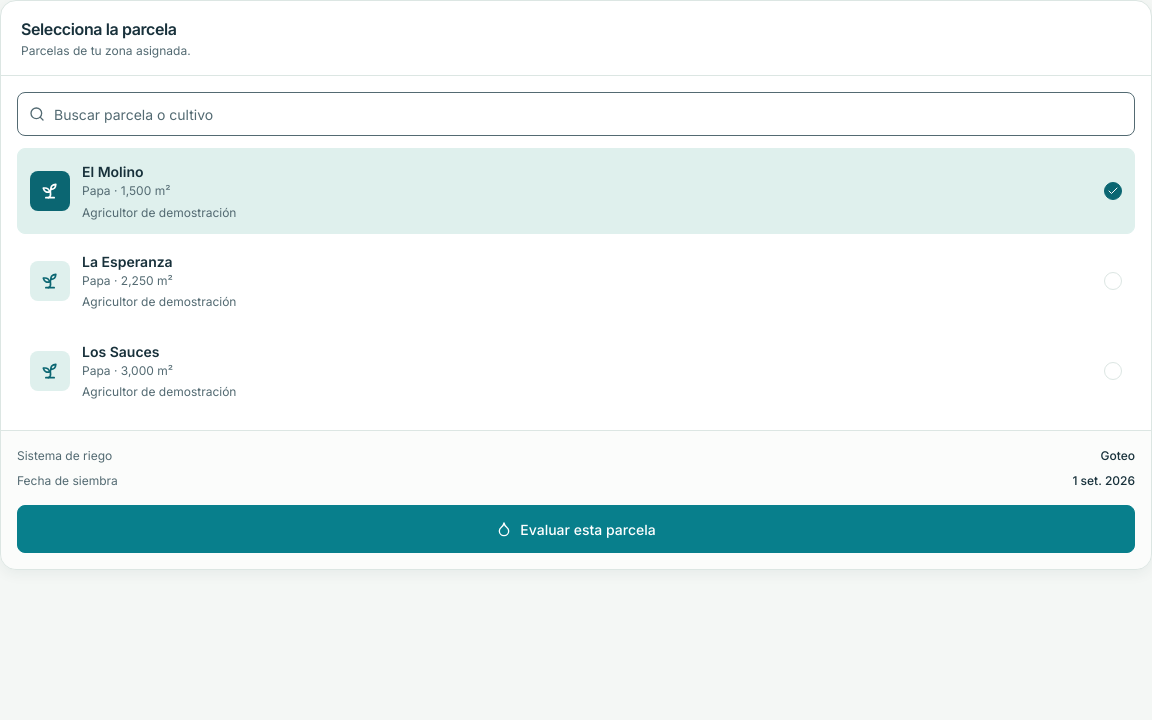
PlotSelector › filtra por nombre o cultivo y permite limpiar la búsqueda
Type "sauces" into the search field labelled "Buscar parcela o cultivo".
click(576, 114); type("sauces")  # box [17,92,1135,136]
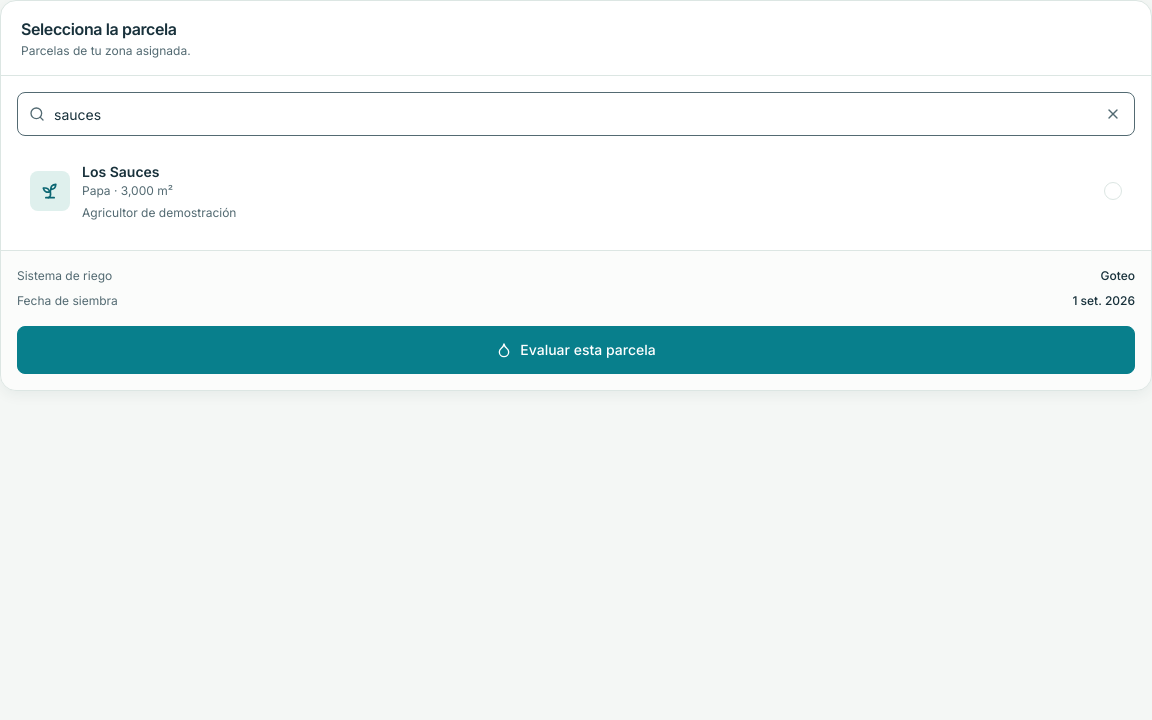
Expected: the button with aria-label "Seleccionar Los Sauces" is shown, [17,148,1135,234]
Replace the text in the search field named "Buscar parcela o cultivo" with "zzz" at (576,114), box [17,92,1135,136]
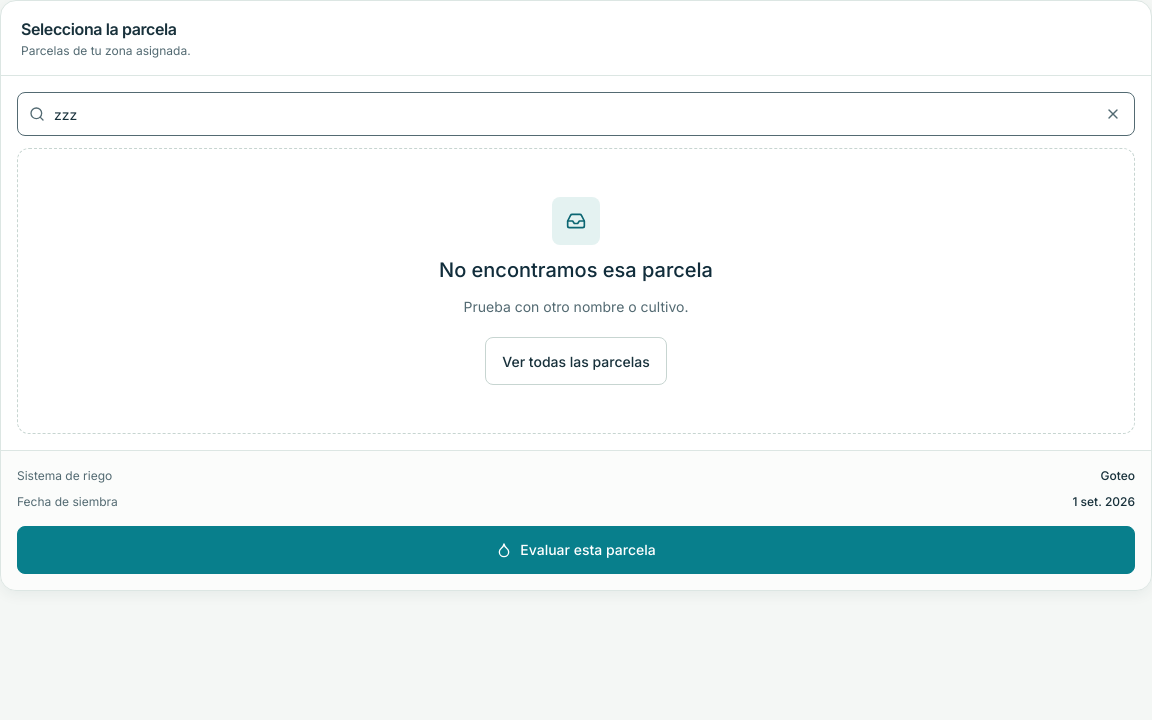
Expected: the text "No encontramos esa parcela" is shown, [439,257,713,284]
Click the button "Ver todas las parcelas".
click(576, 361)  # box [485,337,667,385]
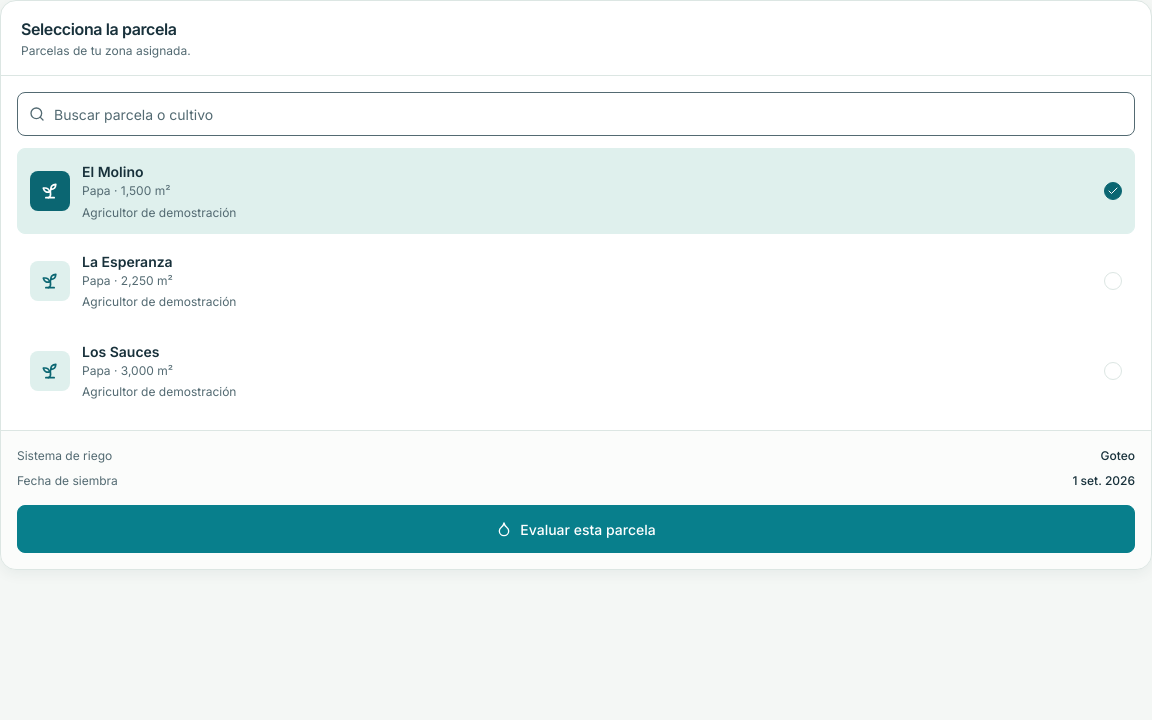
Expected: the button with aria-label "Seleccionar El Molino" is shown, [17,148,1135,234]
